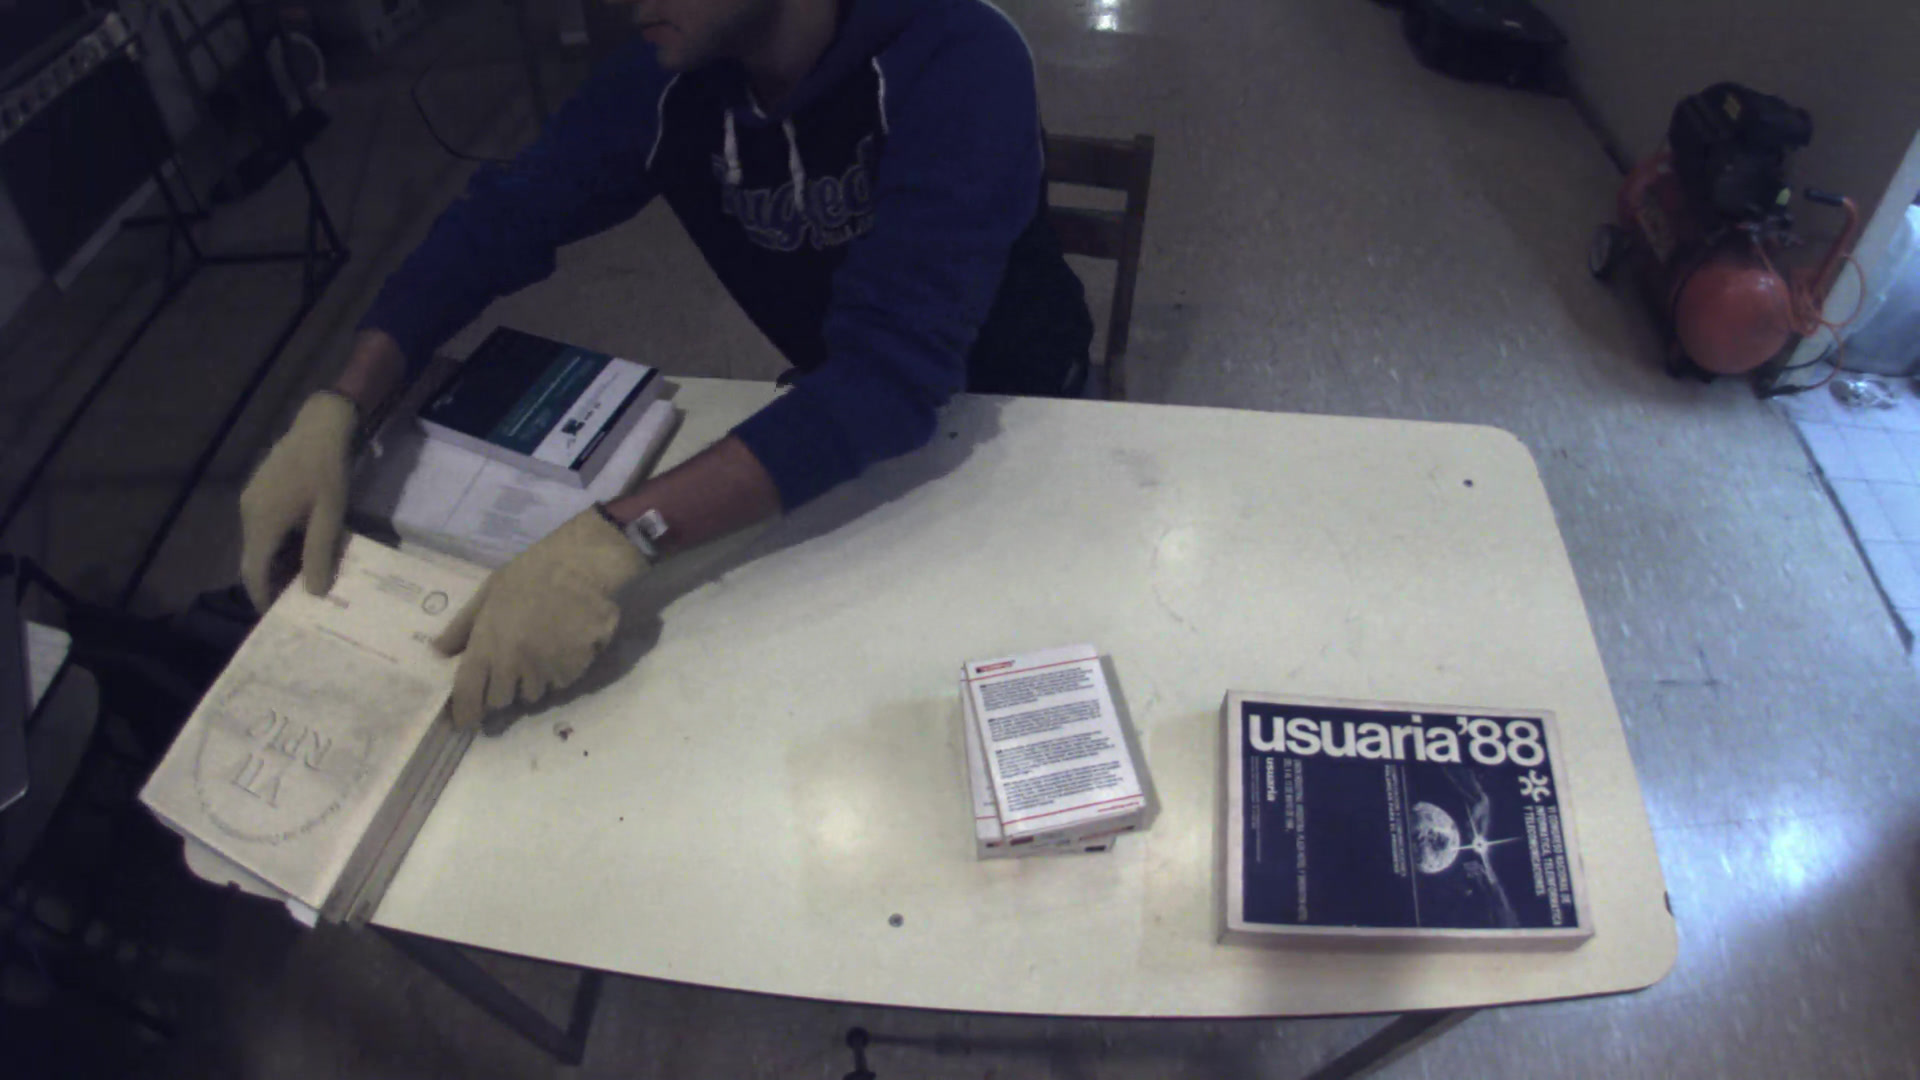hand: (414, 497, 654, 719), (222, 390, 361, 615)
